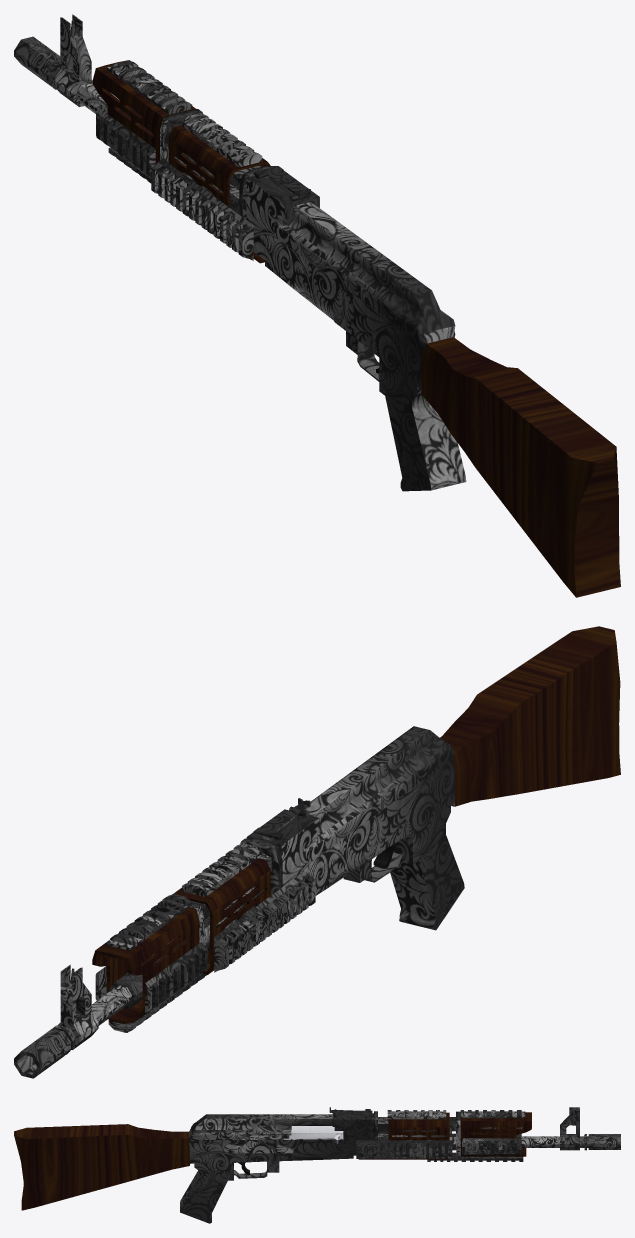
The picture shows the model from 3 angles, top to bottom: view 1: azimuth 30°, elevation 25°; view 2: azimuth 150°, elevation 25°; view 3: azimuth 270°, elevation 25°; orthographic projection. The views are drawn at different scales.
Parts seen in each view (by area): view 1: polySurface3; view 2: polySurface3; view 3: polySurface3, pCube2.
Part boxes in pixels (x1,y1,x2,y2): polySurface3: [14, 14, 620, 597]; polySurface3: [14, 626, 620, 1078]; polySurface3: [14, 1107, 620, 1223]; pCube2: [289, 1126, 343, 1143].
Bounding box in the file's own units: 2.18 × 5.84 × 29.01.
3 materials, 3 textured.
